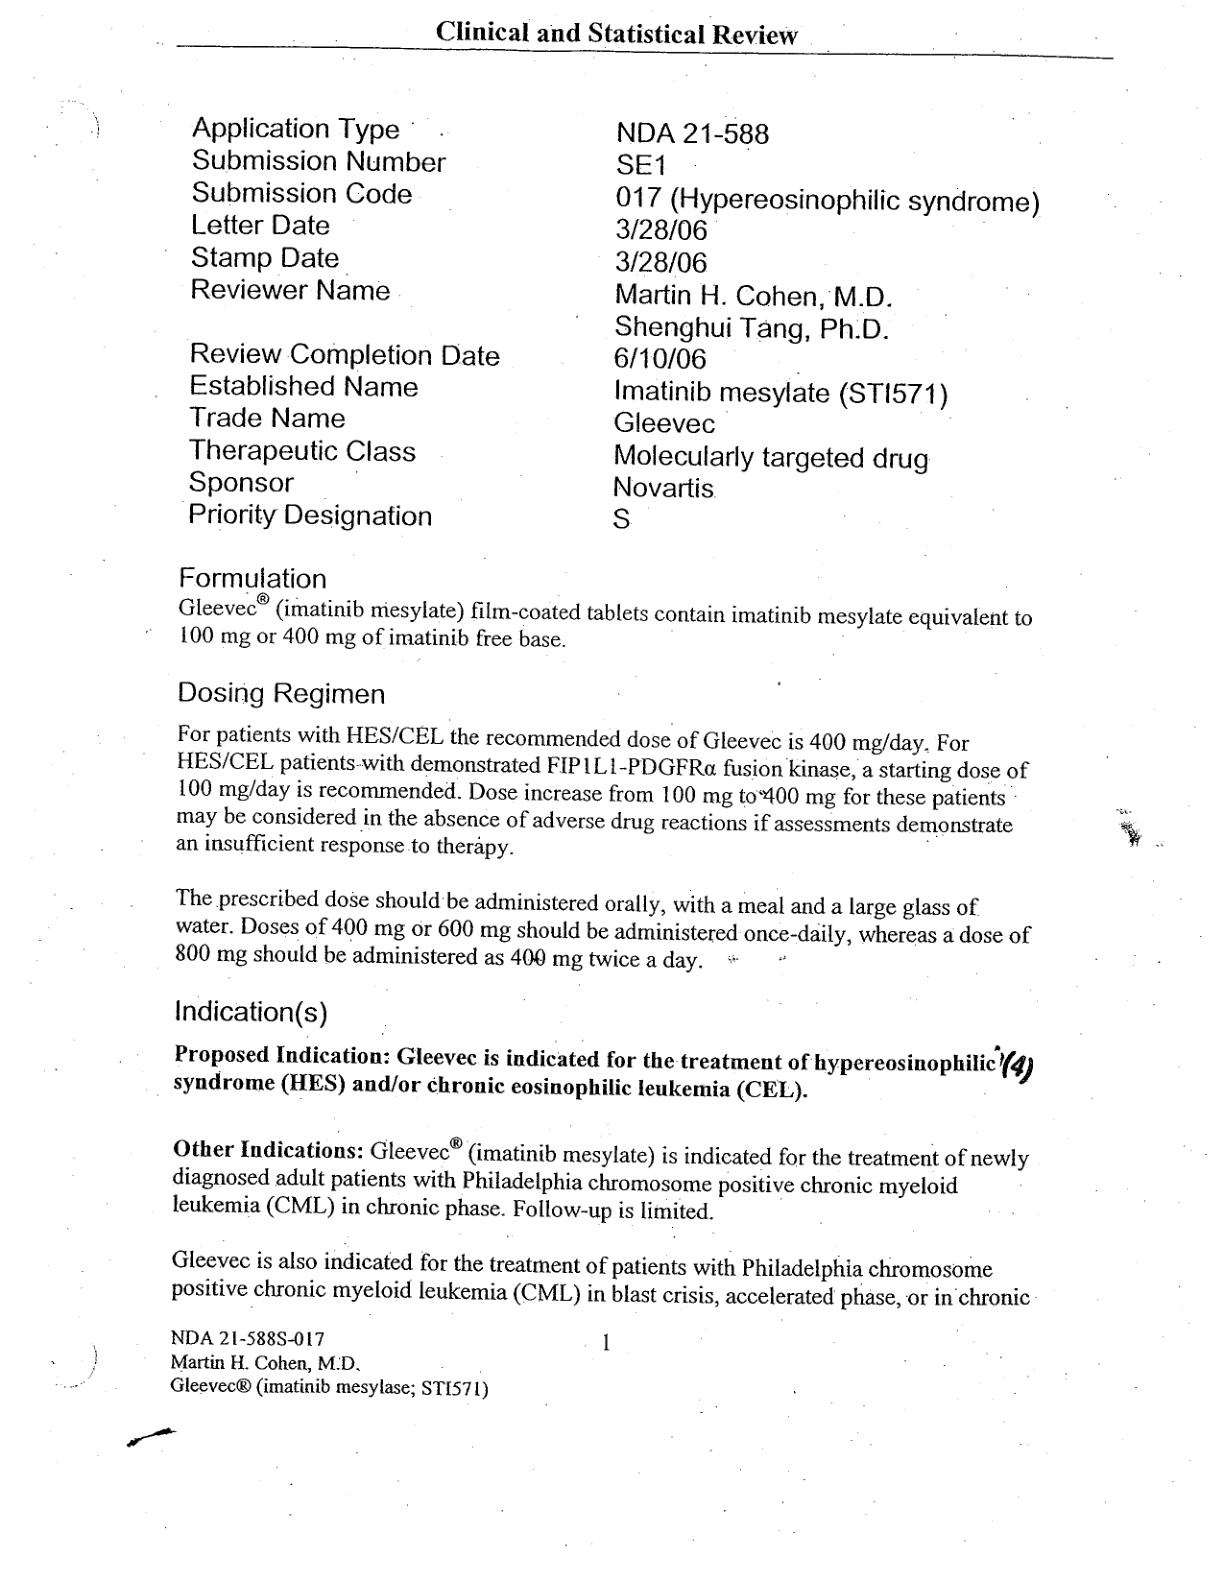nolines: (188, 108, 1042, 535)
